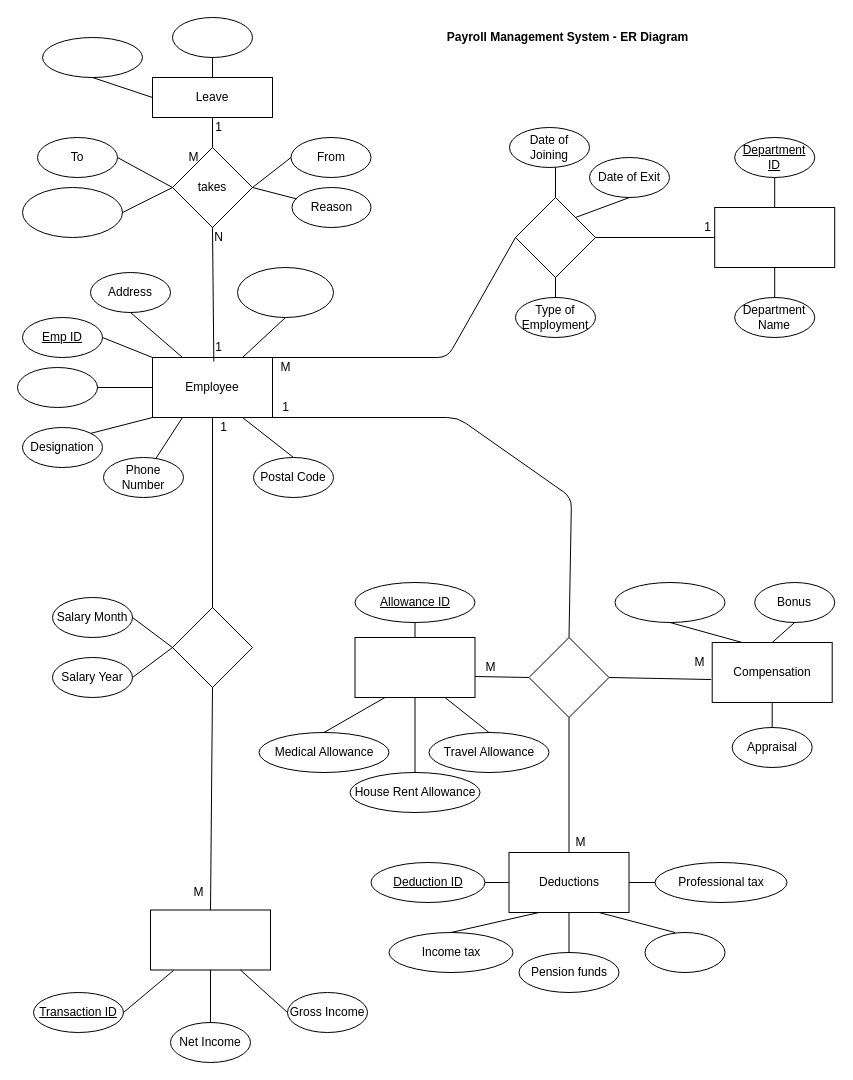
This 853x1080 diagram has some shape labels left out. Here are the shapes that lost their labels. From the top down, the centre of each, then its label:
At [92,57]: "Leave ID".
At [212,37]: "Type of leave".
At [72,212]: "Monthly Working Days".
At [555,237]: "works_for".
At [774,237]: "Department".
At [285,292]: "Bank Account Number".
At [57,387]: "Emp Name".
At [669,602]: "Compensation ID".
At [212,647]: "receives".
At [414,667]: "Allowances".
At [568,677]: "based_on".
At [210,939]: "Salary".
At [684,952]: "Loan".
